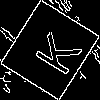K: (25, 25, 83, 78)
